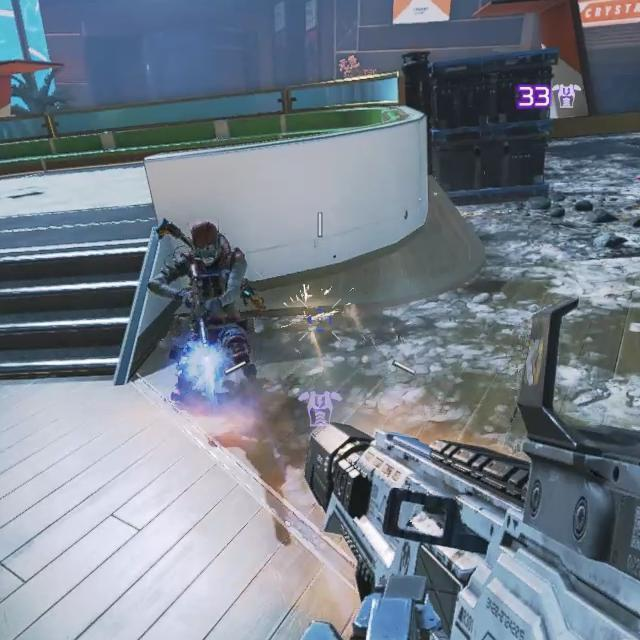avatar: (145, 222, 255, 403)
object: (179, 339, 228, 394)
